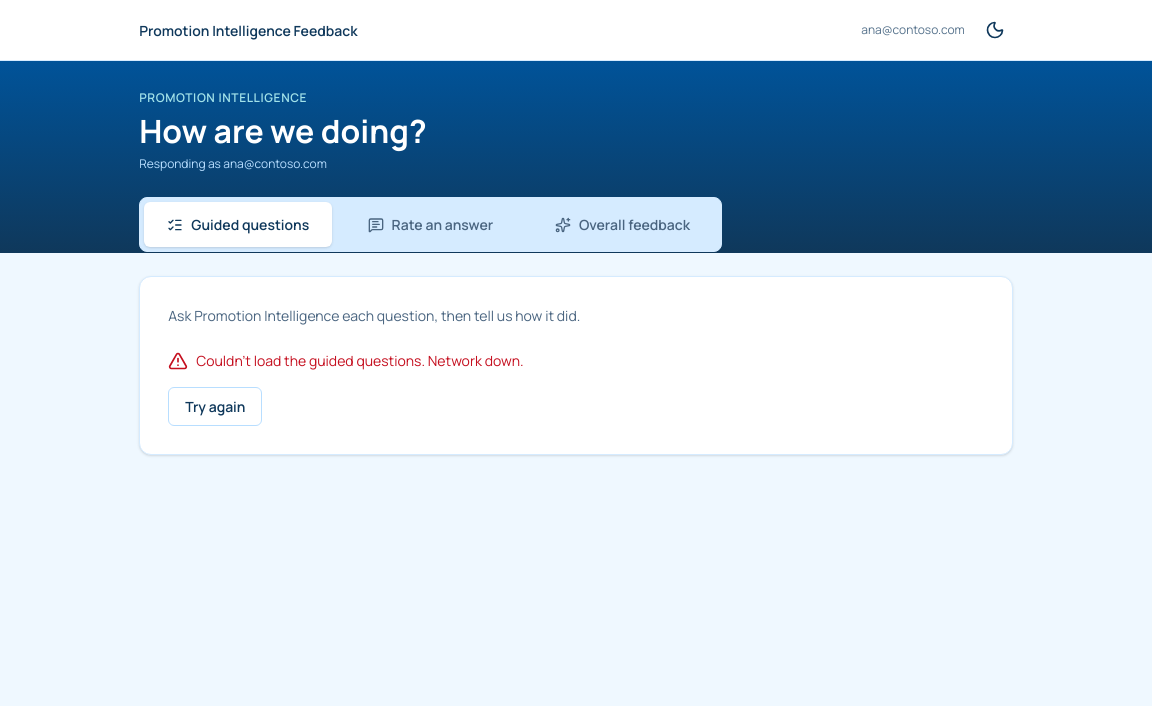
Test case: App › guided questions from the database › offers a retry when the questions cannot load
Expected: the message shows "Network down.", [428,351,524,370]
Click the button "Try again": (215, 406) [168,387,262,426]
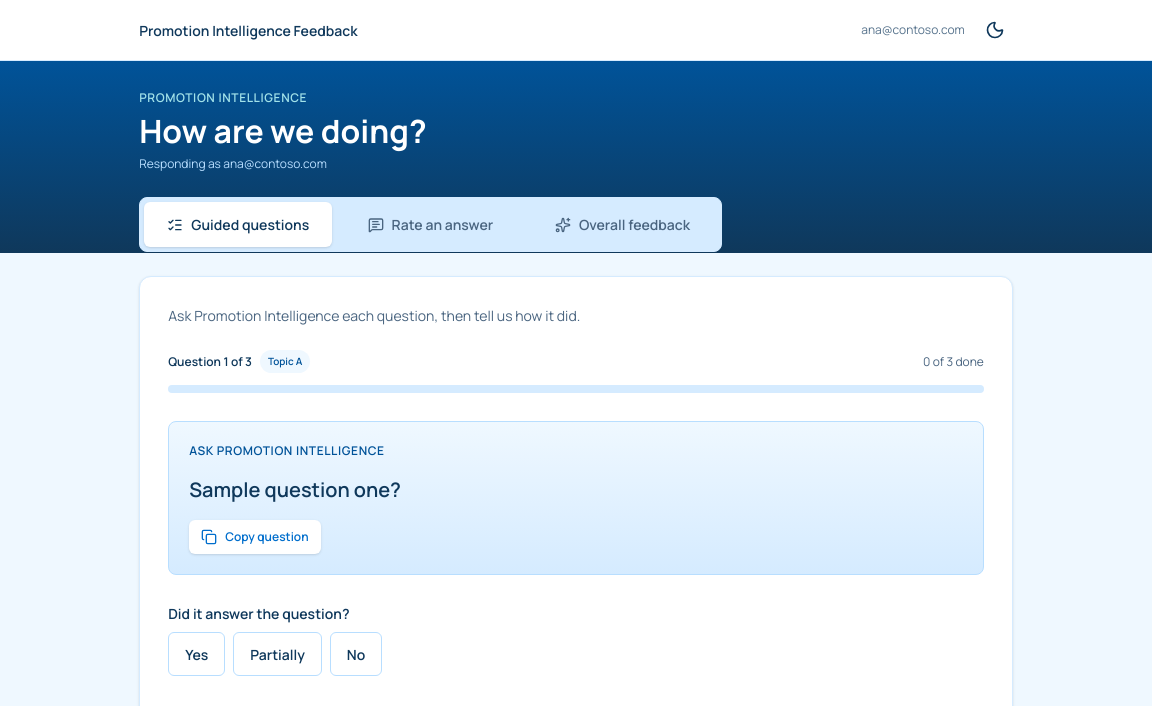
Expected: the text "Question 1 of 3" is shown, [168,350,310,373]
